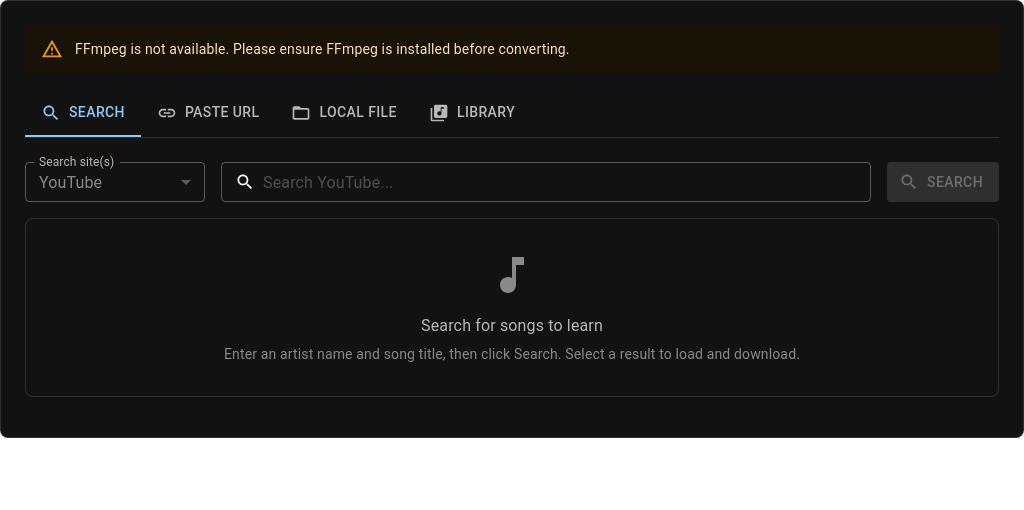
Test: ConversionForm › disabled prop disables the convert button area
Click the tab "Paste URL": (208,113) [141, 89, 275, 137]
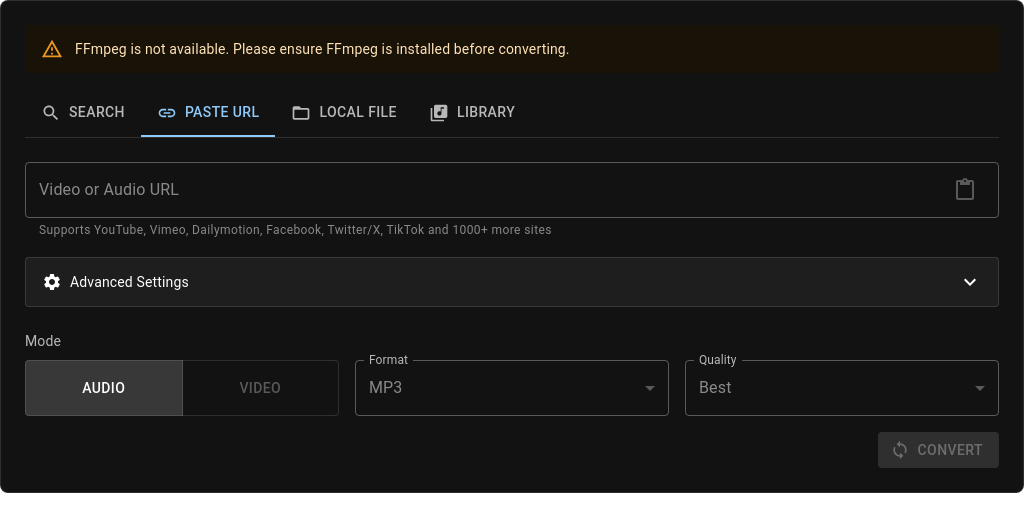
Expected: the button "Convert" is disabled, [878, 432, 999, 468]
